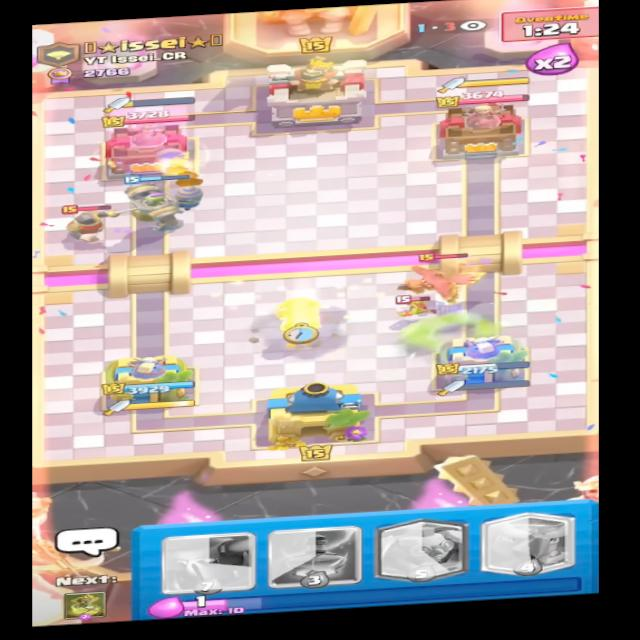goblin: (386, 293, 429, 317)
knight: (59, 194, 121, 248)
phoenix: (389, 247, 512, 297)
